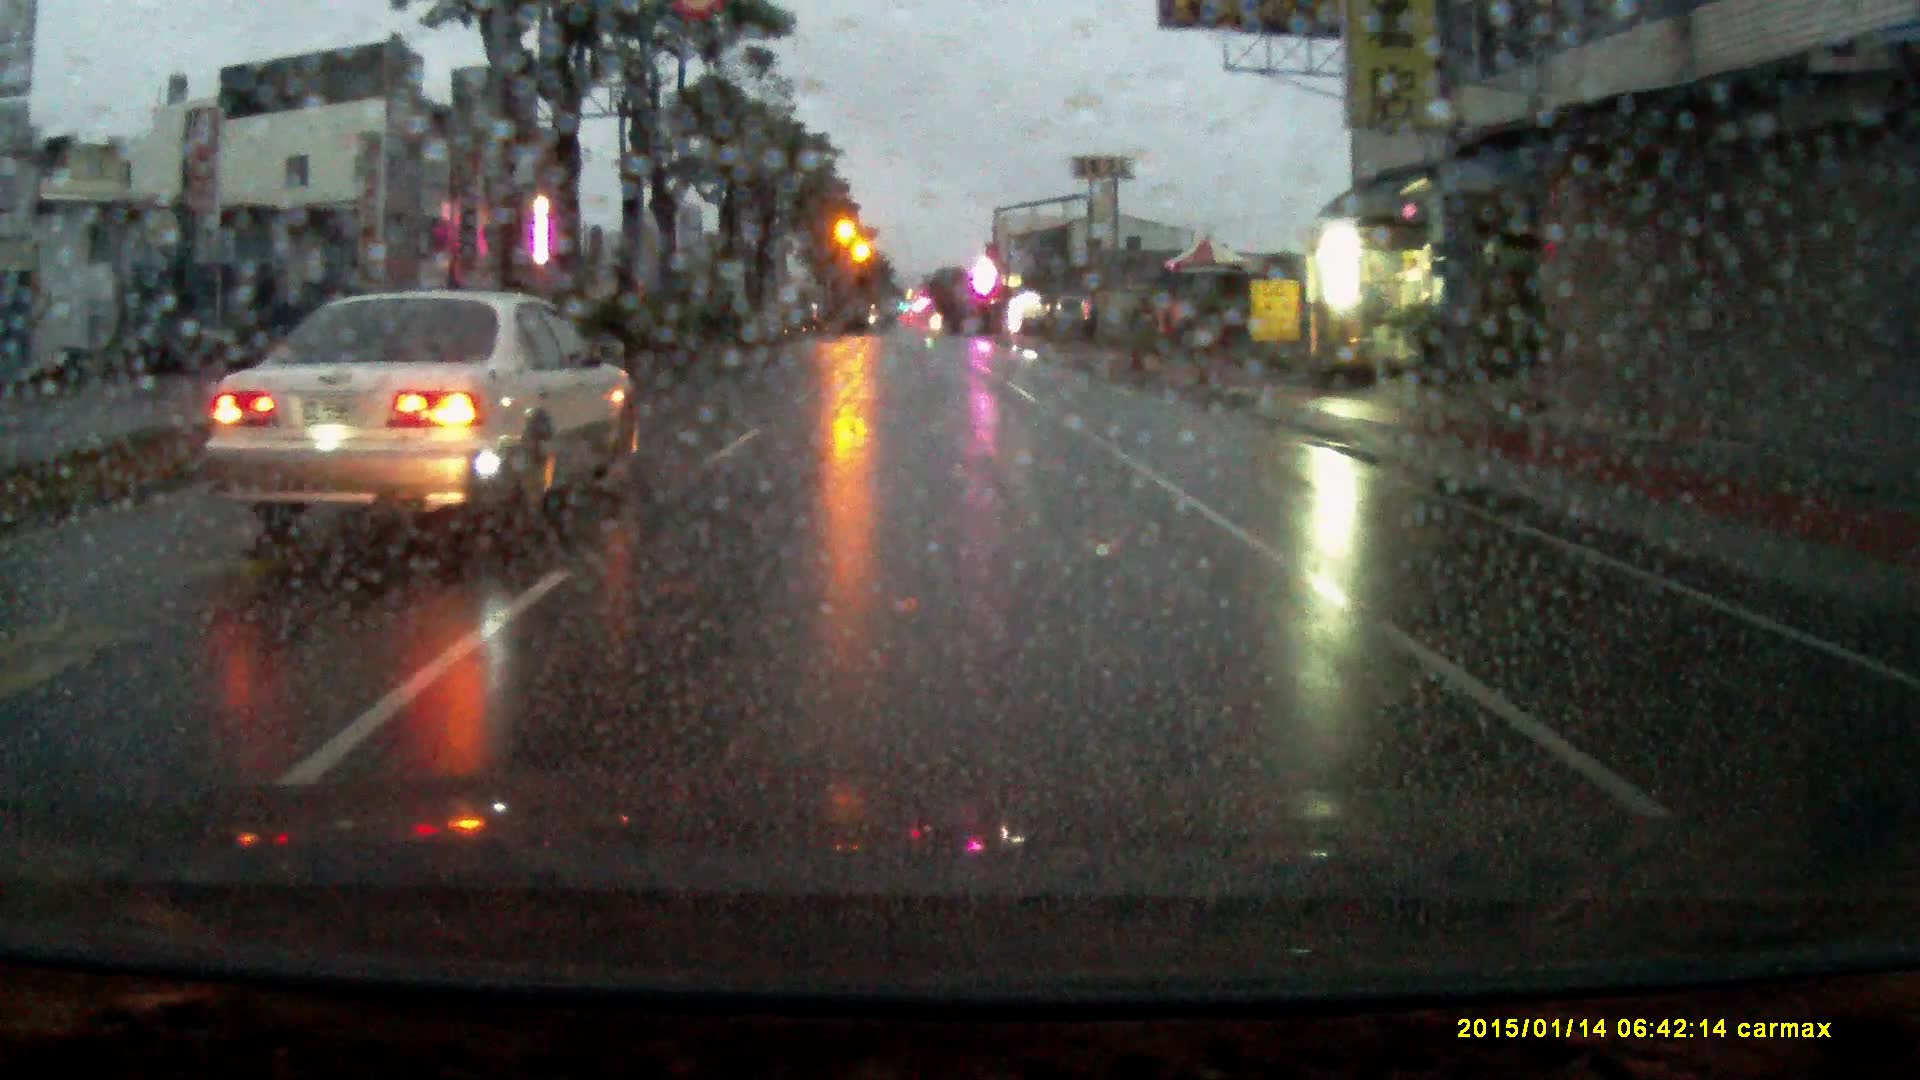vehicle: (200, 289, 644, 543)
